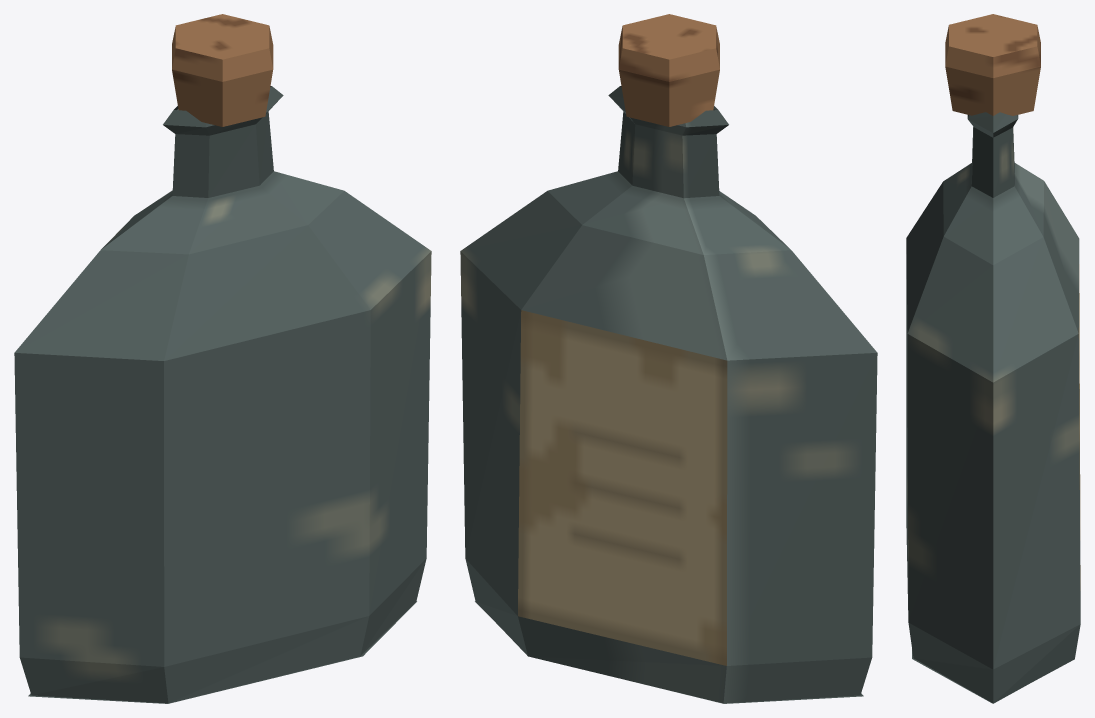
Rendered from SM_PR08_BottleFlat.fbx.
The picture shows the model from 3 angles, left to right: view 1: azimuth 30°, elevation 25°; view 2: azimuth 150°, elevation 25°; view 3: azimuth 270°, elevation 25°; orthographic projection. The views are drawn at different scales.
Visible parts, largest first — view 1: PR08_Flask; view 2: PR08_Flask; view 3: PR08_Flask.
Part boxes in pixels (bbox=[...]): PR08_Flask: bbox=[14, 14, 431, 703]; PR08_Flask: bbox=[460, 14, 877, 703]; PR08_Flask: bbox=[906, 14, 1080, 703].
Size of the model in its own units: 0.214 by 0.3 by 0.082.
